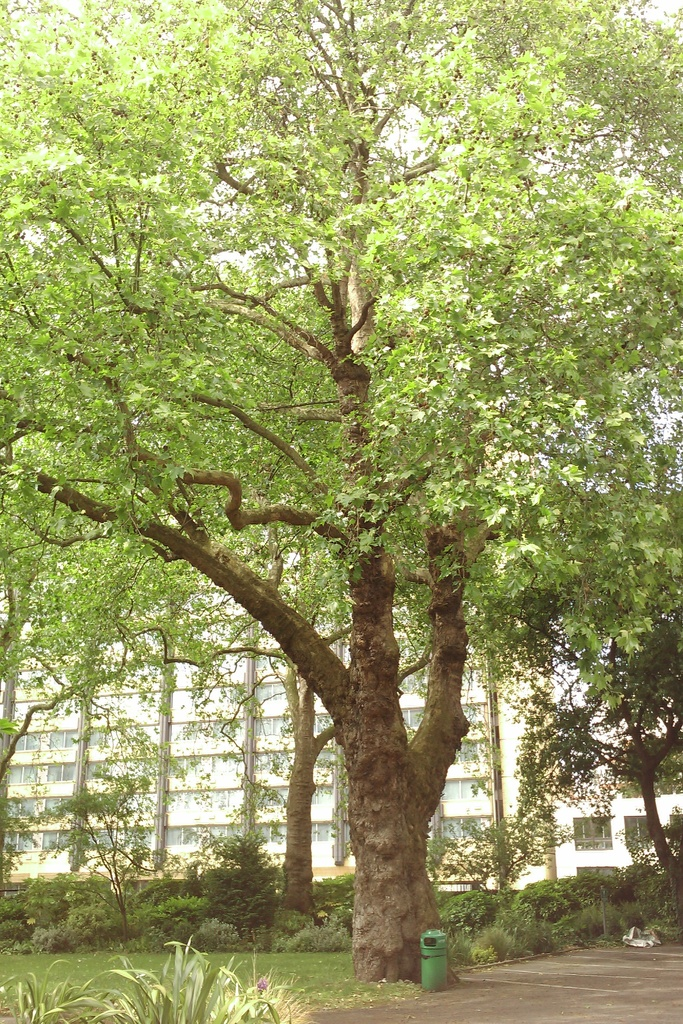Tree: (0, 0, 683, 987)
